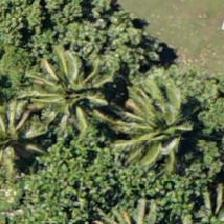Kelapa_Sawit: (29, 48, 119, 138), (136, 72, 224, 162)
